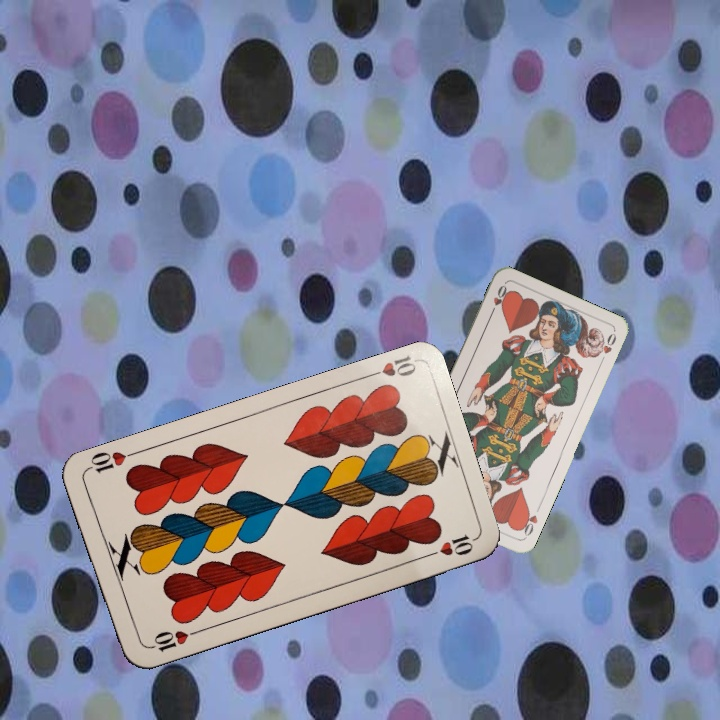H10: (360, 351, 419, 381), (143, 626, 201, 655)
HO: (486, 281, 511, 319), (515, 505, 540, 541)
